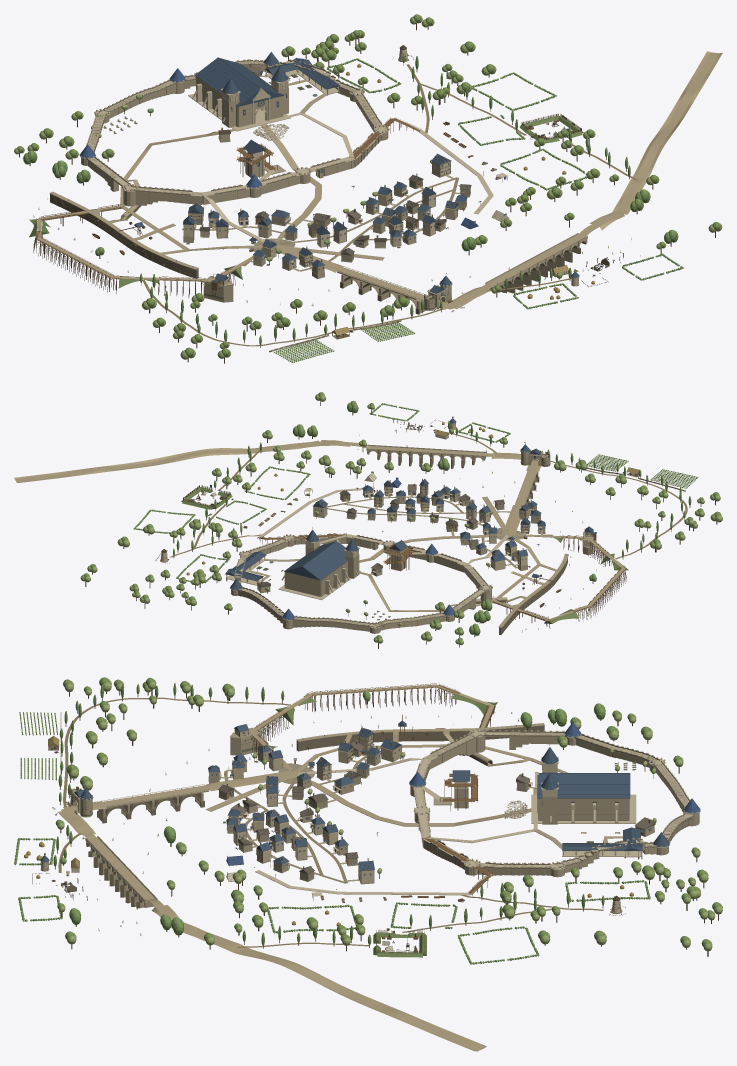
Rendered from world_orleans.visual.glb.
3 renders of one model, top to bottom at view 1: azimuth 30°, elevation 25°; view 2: azimuth 150°, elevation 25°; view 3: azimuth 270°, elevation 25°, orthographic. The views are drawn at different scales.
Parts seen in each view (by area): view 1: orleans_Routes, orleans_RiverTown, orleans_CurtainWalls, orleans_Trees_Leaves, orleans_CountrysideFoliage, orleans_Cathedral, orleans_RiverHarbour, orleans_RiverTrestles, orleans_LongBridge, orleans_CountryLanes, orleans_HerbCloister, orleans_SiegeWallWorks (+7 smaller); view 2: orleans_Routes, orleans_Trees_Leaves, orleans_CurtainWalls, orleans_RiverTown, orleans_CountrysideFoliage, orleans_Cathedral, orleans_RiverHarbour, orleans_RiverTrestles, orleans_LongBridge, orleans_OrchardsAndLanes, orleans_CountryLanes, orleans_HerbCloister (+4 smaller); view 3: orleans_Routes, orleans_RiverTown, orleans_CurtainWalls, orleans_Trees_Leaves, orleans_Cathedral, orleans_CountrysideFoliage, orleans_RiverHarbour, orleans_RiverTrestles, orleans_CountryLanes, orleans_HerbCloister, orleans_LongBridge, orleans_SiegeWallWorks (+4 smaller).
Boxes of the visible parts, bbox=[...] form: orleans_Routes: bbox=[37, 51, 722, 309]; orleans_RiverTown: bbox=[183, 62, 471, 278]; orleans_CurtainWalls: bbox=[79, 52, 389, 206]; orleans_Trees_Leaves: bbox=[14, 14, 722, 359]; orleans_CountrysideFoliage: bbox=[33, 53, 683, 362]; orleans_Cathedral: bbox=[188, 57, 291, 131]; orleans_RiverHarbour: bbox=[39, 191, 427, 314]; orleans_RiverTrestles: bbox=[33, 218, 237, 297]; orleans_LongBridge: bbox=[485, 233, 587, 293]; orleans_CountryLanes: bbox=[142, 64, 637, 346]; orleans_HerbCloister: bbox=[265, 58, 340, 113]; orleans_SiegeWallWorks: bbox=[236, 117, 507, 182]; orleans_Routes: bbox=[14, 440, 625, 621]; orleans_Trees_Leaves: bbox=[80, 392, 722, 645]; orleans_CurtainWalls: bbox=[230, 533, 492, 633]; orleans_RiverTown: bbox=[257, 478, 545, 593]; orleans_CountrysideFoliage: bbox=[133, 403, 698, 632]; orleans_Cathedral: bbox=[278, 527, 360, 599]; orleans_RiverHarbour: bbox=[493, 467, 568, 634]; orleans_RiverTrestles: bbox=[546, 535, 626, 628]; orleans_LongBridge: bbox=[366, 444, 486, 468]; orleans_OrchardsAndLanes: bbox=[327, 496, 552, 611]; orleans_CountryLanes: bbox=[170, 432, 687, 559]; orleans_HerbCloister: bbox=[225, 551, 300, 585]; orleans_Routes: bbox=[58, 684, 622, 1051]; orleans_RiverTown: bbox=[208, 727, 655, 884]; orleans_CurtainWalls: bbox=[409, 722, 700, 877]; orleans_Trees_Leaves: bbox=[55, 677, 722, 951]; orleans_Cathedral: bbox=[531, 743, 636, 824]; orleans_CountrysideFoliage: bbox=[14, 683, 650, 964]; orleans_RiverHarbour: bbox=[93, 706, 544, 823]; orleans_RiverTrestles: bbox=[251, 683, 494, 758]; orleans_CountryLanes: bbox=[58, 697, 603, 947]; orleans_HerbCloister: bbox=[534, 827, 642, 859]; orleans_LongBridge: bbox=[82, 835, 157, 908]; orleans_SiegeWallWorks: bbox=[311, 773, 492, 902].
Bounding box in the file's own units: 809 × 89.63 × 649.
